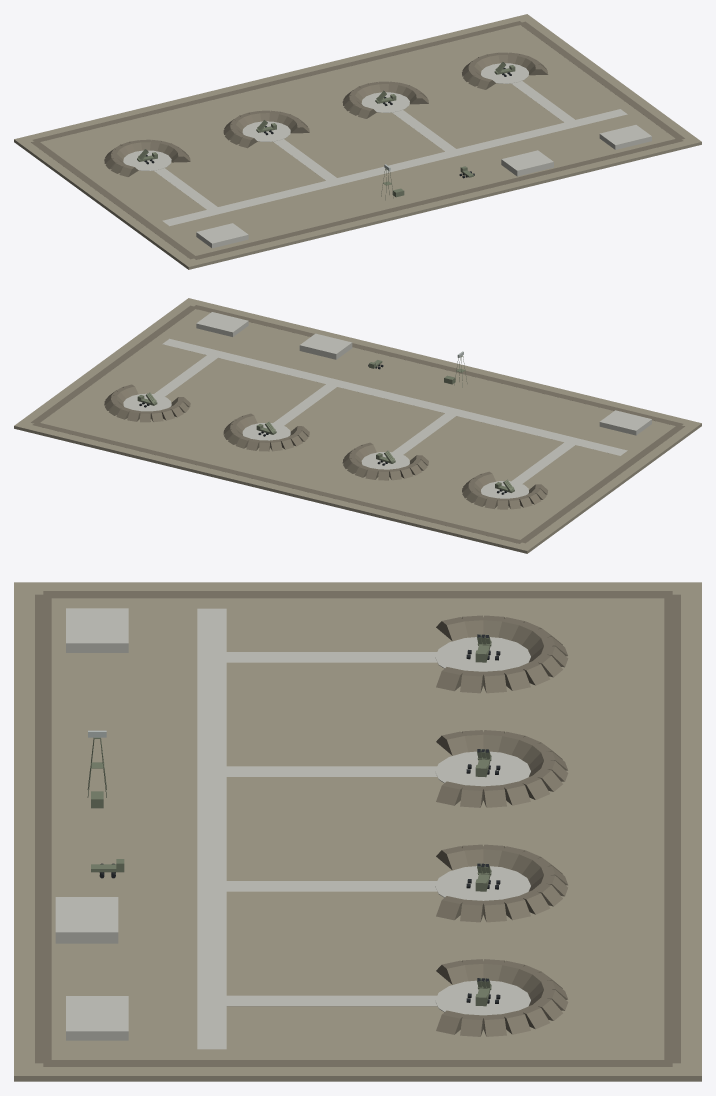
Rendered from jgsdf_type12_battery.glb.
3 renders of one model, top to bottom at view 1: azimuth 30°, elevation 25°; view 2: azimuth 150°, elevation 25°; view 3: azimuth 270°, elevation 25°, orthographic. The views are drawn at different scales.
Parts seen in each view (by area): view 1: earth, earth_dark, concrete, drab; view 2: earth, earth_dark, concrete, drab; view 3: earth, earth_dark, concrete, drab.
Part boxes in pixels (x1,y1,x2,y2): earth: (14, 14, 701, 269); earth_dark: (31, 21, 684, 259); concrete: (123, 63, 651, 248); drab: (137, 62, 515, 200); earth: (14, 298, 701, 553); earth_dark: (31, 305, 684, 543); concrete: (123, 312, 651, 498); drab: (137, 355, 514, 492); earth: (14, 582, 701, 1081); earth_dark: (35, 591, 680, 1066); concrete: (55, 608, 530, 1049); drab: (87, 634, 491, 1006).
Bounding box in the file's own units: 10 × 0.6446 × 5.89.
